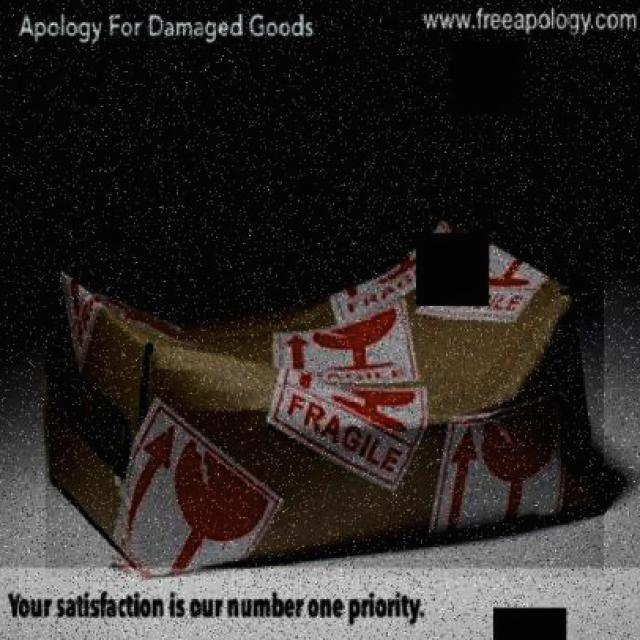box: (46, 214, 604, 576)
